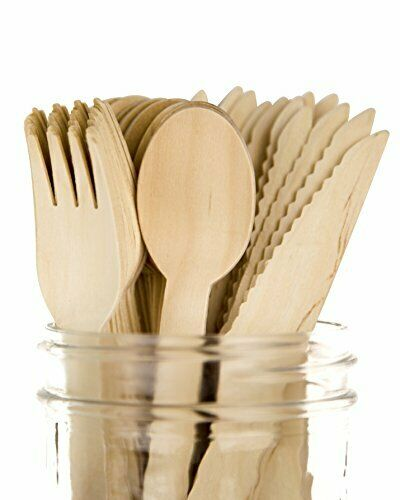Wooden Utensils: (239, 89, 391, 362), (128, 95, 252, 338), (21, 97, 140, 339)
